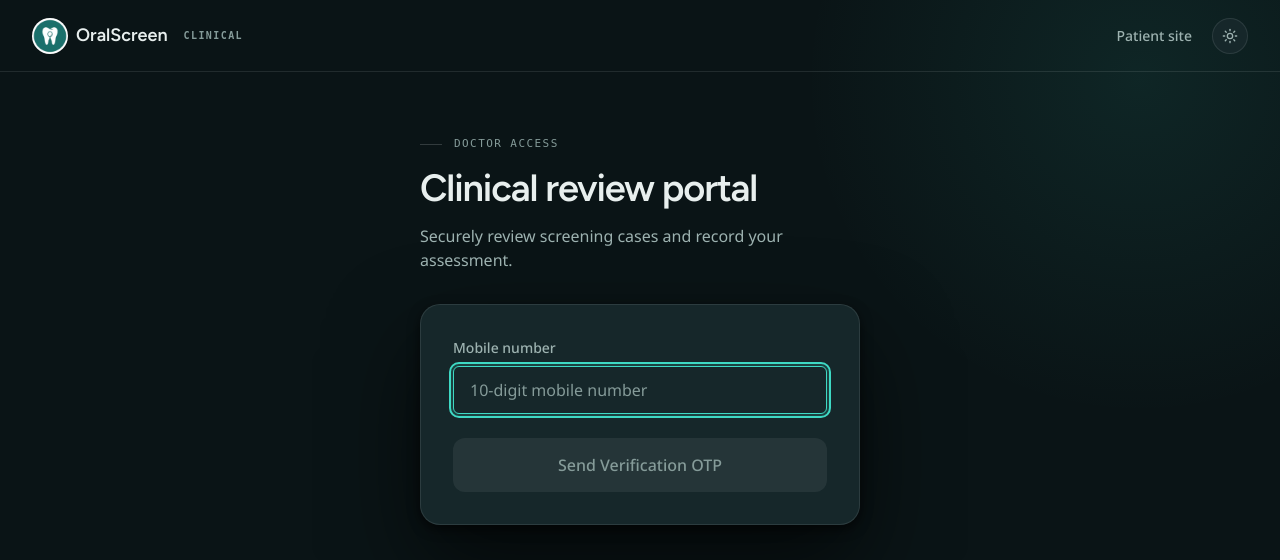
it: the phone step › strips non-digits and caps at ten
The width and height of the screenshot is (1280, 560).
Type "ab98765-4321099" into the field labelled "Mobile number".
click(640, 390); type("ab98765-4321099")  # box [453,366,827,414]
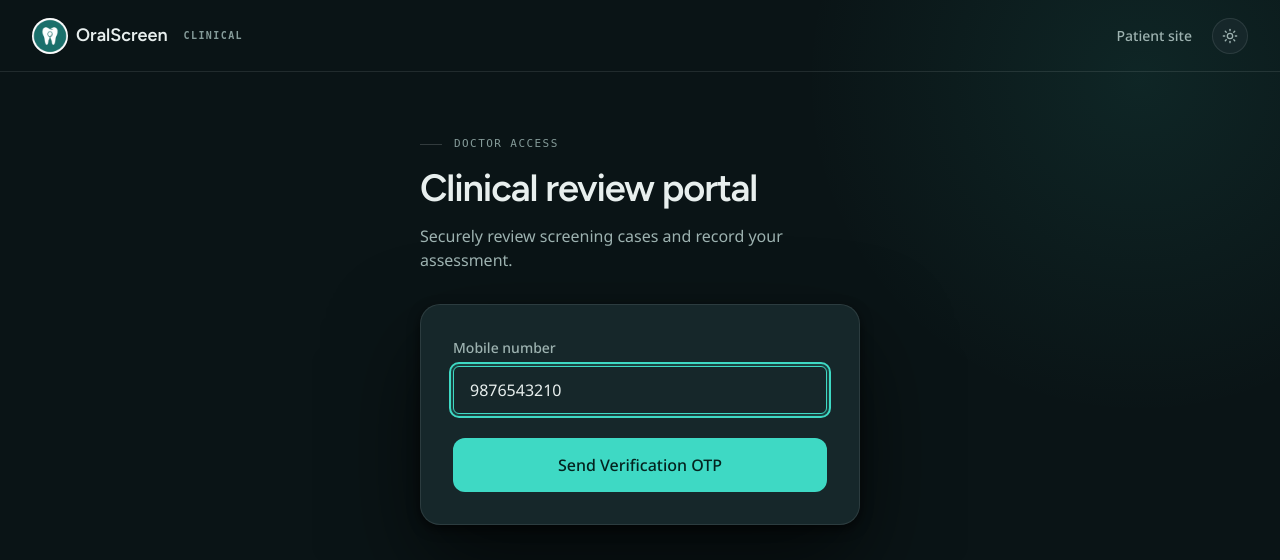
Check: the field labelled "Mobile number" holds "9876543210", box [453,366,827,414]
